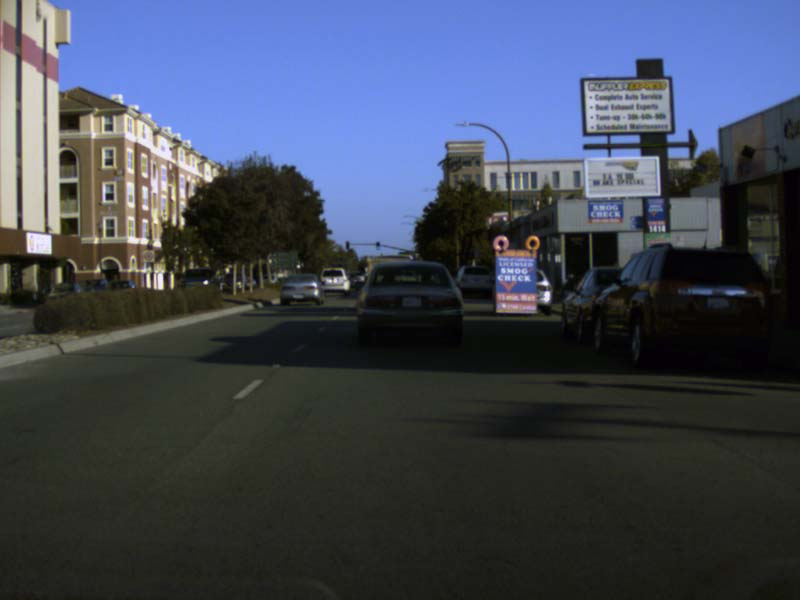Green: (375, 241, 379, 249)
Red: (345, 241, 348, 249)
